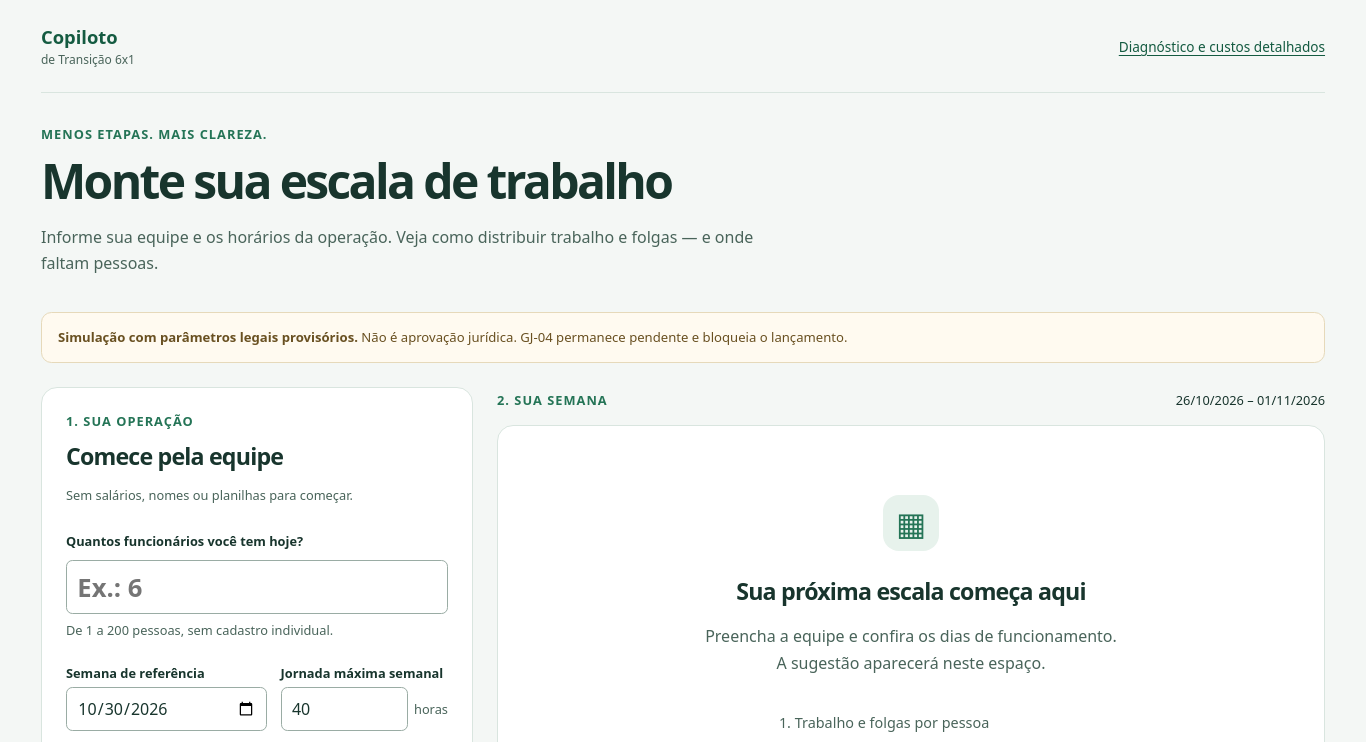
simplified weekly planner › preserves saved detailed assumptions
In the number field labelled "Quantos funcionários você tem hoje?": (257, 587) [66,560,448,614], type "2"
(page scrolled)
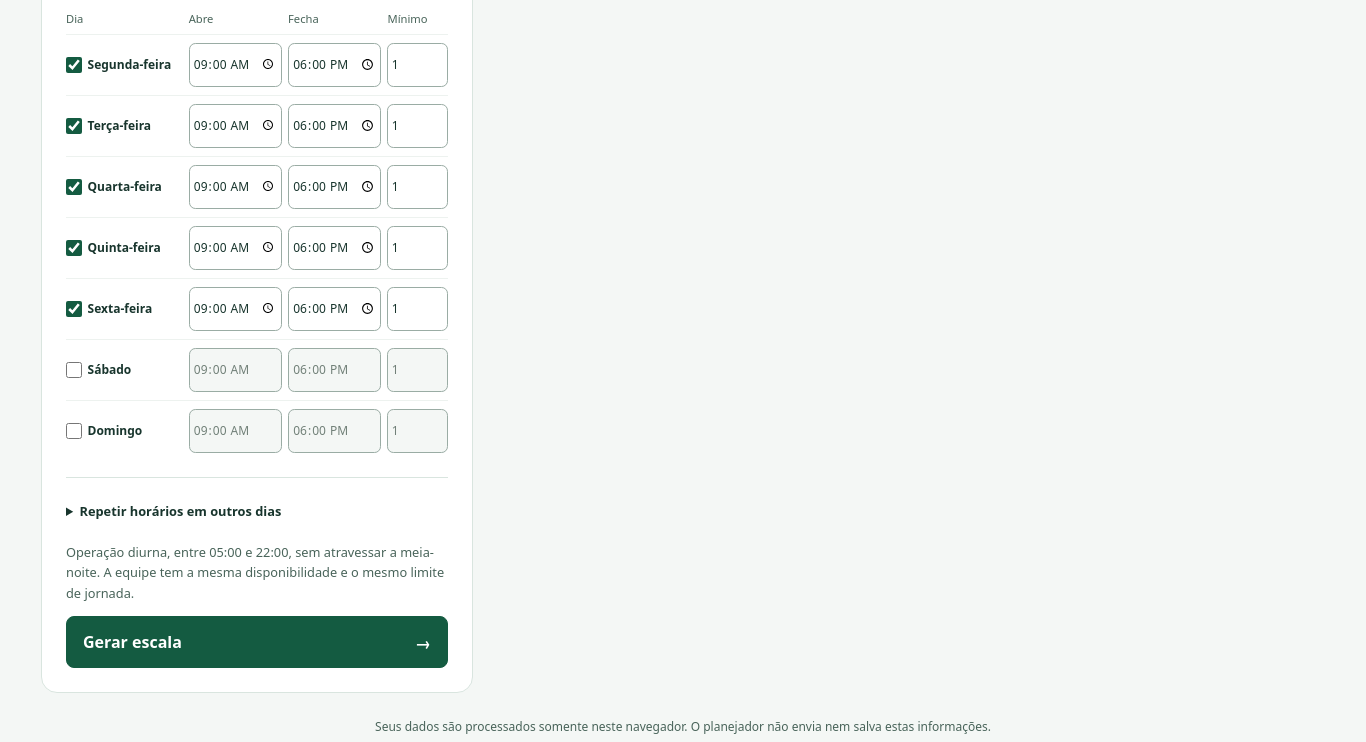
Click the button "Gerar escala →": click(132, 642) [66,616,448,668]
(page scrolled)
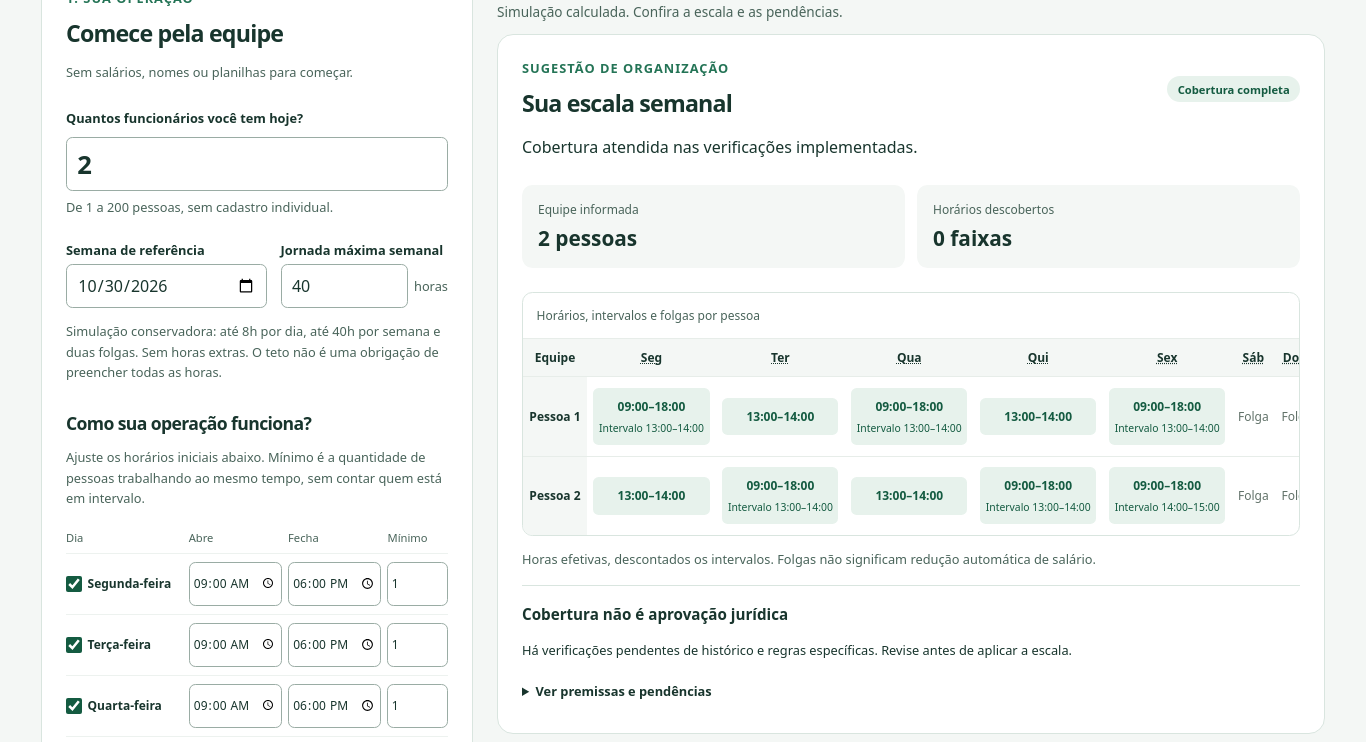
Check: the element "Sua escala semanal" is shown, box [497,34,1325,734]
